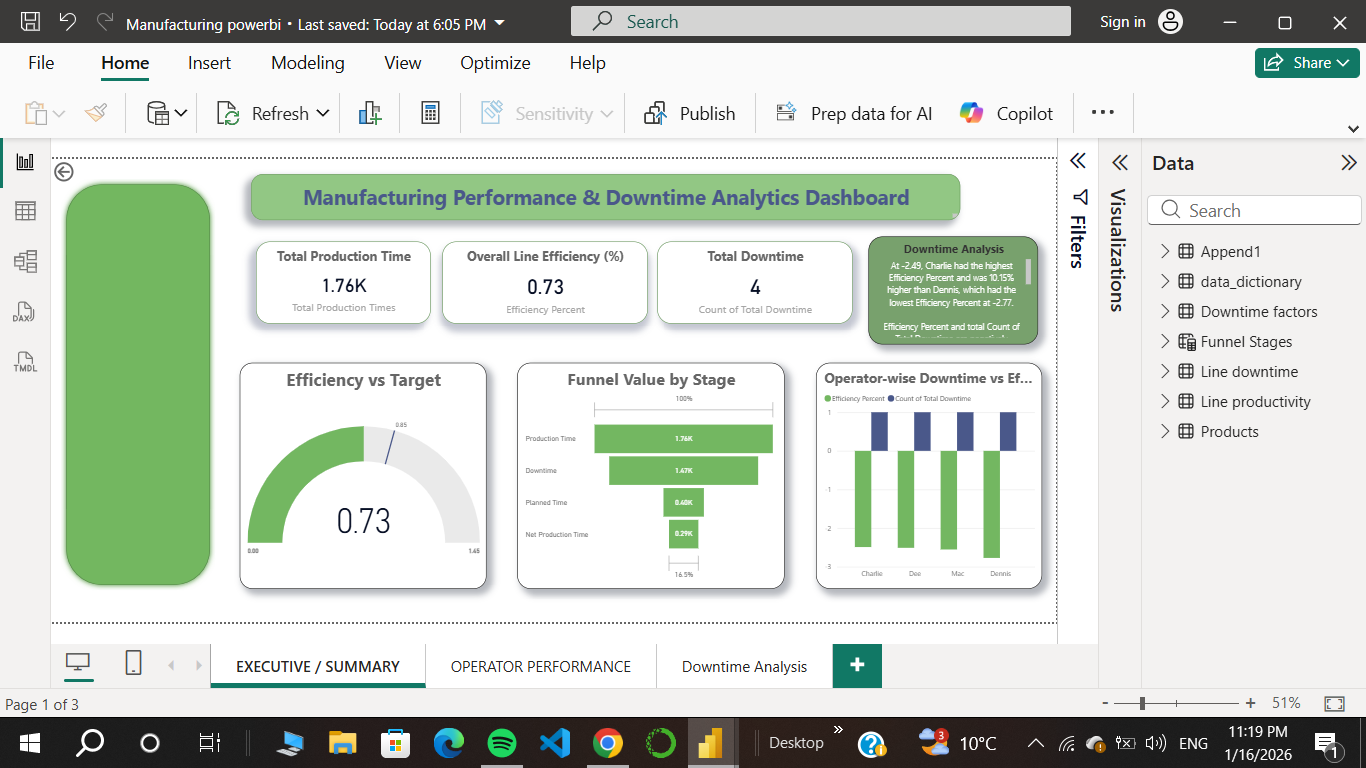

Layout of this report page (visuals, bound fields, positions):
{"tool":"powerbi","page":{"name":"EXECUTIVE / SUMMARY","canvas":[1565,720],"ordinal":0},"visuals":[{"type":"card","title":"Total Production Time ","fields":{"Values":["Line downtime.Total Production Times"]},"box":[320,128,272,128],"z":0},{"type":"card","title":"Overall Line Efficiency (%)","fields":{"Values":["Line downtime.Efficiency Percent"]},"box":[608,128,320,128],"z":1000},{"type":"card","title":"Total Downtime","fields":{"Values":["Line productivity.Total Downtime"]},"box":[944,128,304,128],"z":2000},{"type":"gauge","title":"Efficiency vs Target","fields":{"Y":["Line downtime.Efficiency Percent"],"TargetValue":["Line productivity.Target Efficiency"]},"box":[294.5,316.5,384,352],"z":3000},{"type":"funnel","fields":{"Category":["Funnel Stages.Stage"],"Y":["Funnel Stages.Funnel Value"]},"box":[726.5,316.5,416,352],"z":4000},{"type":"textbox","title":"Manufacturing Performance & Downtime Analytics Dashboard","box":[312,24,1104,72],"z":5000},{"type":"lineClusteredColumnComboChart","title":"Operator-wise Downtime vs Efficiency","fields":{"Category":["Line productivity.Operator"],"Y":["Line downtime.Efficiency Percent","Line productivity.Total Downtime"]},"box":[1190.5,316.5,352,352],"z":6000},{"type":"shape","box":[0,32,272,640],"z":7000},{"type":"textbox","title":"Downtime Analysis","box":[1272,120,264,168],"z":8000},{"type":"textbox","title":"Executive Insights","box":[32,64,208,576],"z":9000}]}

Visuals, with their boxes on the page's 1565x720 design canvas (x1, y1, x2, y2). These are canvas units, not pixel positions in the 1366x768 screenshot, which may show the page scaled, cropped or inside an application window:
"Total Production Time " card: select_region(320, 128, 592, 256)
"Overall Line Efficiency (%)" card: select_region(608, 128, 928, 256)
"Total Downtime" card: select_region(944, 128, 1248, 256)
"Efficiency vs Target" gauge: select_region(294, 316, 678, 668)
funnel - Funnel Stages.Stage x Funnel Stages.Funnel Value: select_region(726, 316, 1142, 668)
"Manufacturing Performance & Downtime Analytics Dashboard" textbox: select_region(312, 24, 1416, 96)
"Operator-wise Downtime vs Efficiency" lineClusteredColumnComboChart: select_region(1190, 316, 1542, 668)
shape: select_region(0, 32, 272, 672)
"Downtime Analysis" textbox: select_region(1272, 120, 1536, 288)
"Executive Insights" textbox: select_region(32, 64, 240, 640)
